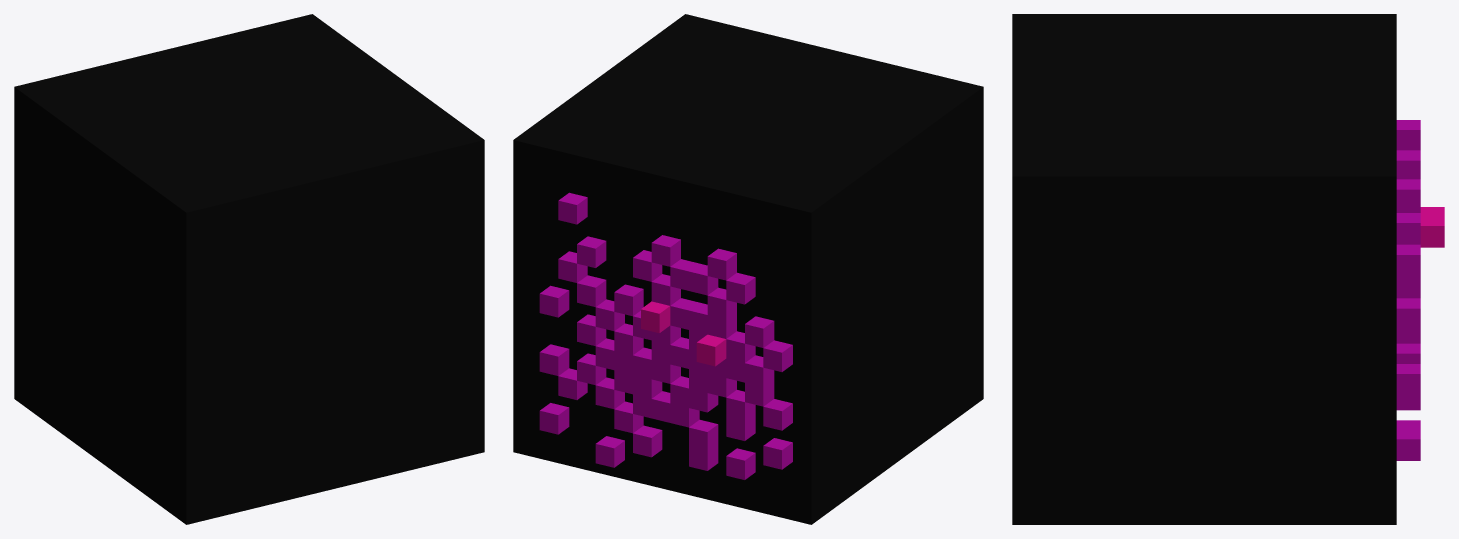
File: br-c-brush-purple.fbx
3 views of the same model, side by side, from view 1: azimuth 30°, elevation 25°; view 2: azimuth 150°, elevation 25°; view 3: azimuth 270°, elevation 25° (orthographic). The views are drawn at different scales.
Visible parts, largest first — view 1: base; view 2: base, brush; view 3: base, brush.
Boxes of the visible parts, bbox=[...] form: base: bbox=[14, 14, 484, 524]; base: bbox=[513, 14, 983, 524]; brush: bbox=[539, 192, 792, 479]; base: bbox=[1012, 14, 1396, 524]; brush: bbox=[1396, 120, 1444, 460].
Bounding box in the file's own units: 1 × 1 × 1.12.
